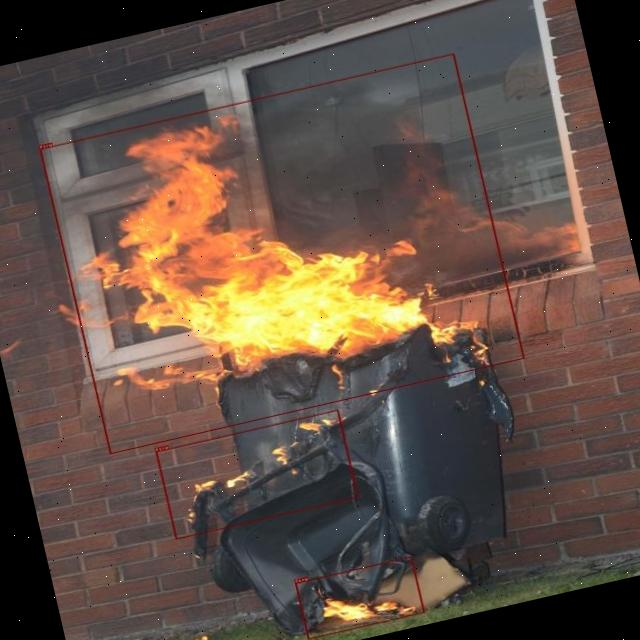fire: (39, 53, 524, 454), (156, 409, 358, 539), (294, 555, 424, 639)
